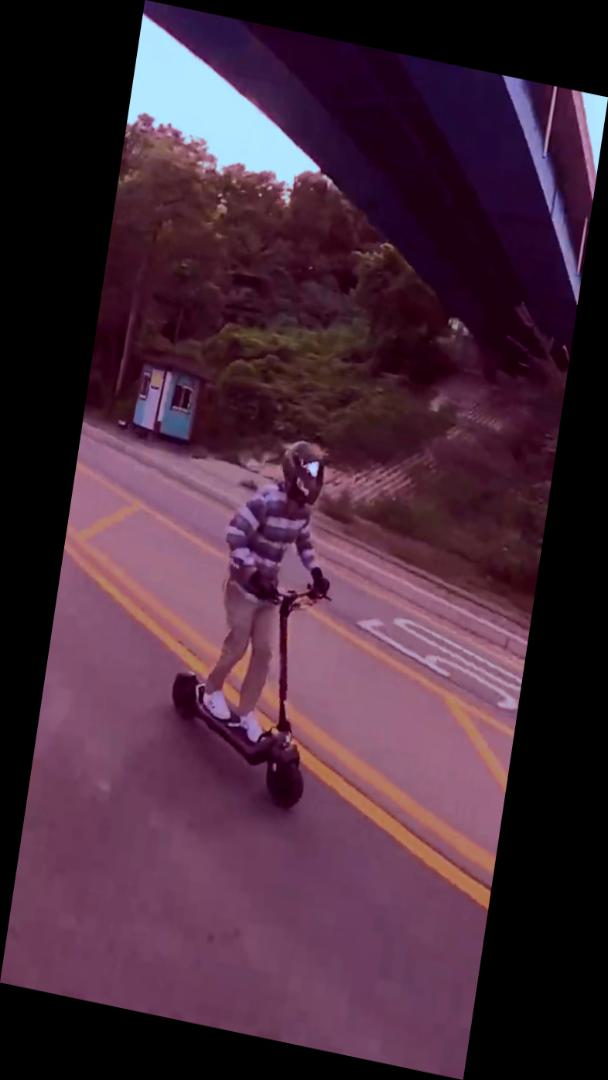helmet: (155, 419, 357, 816)
